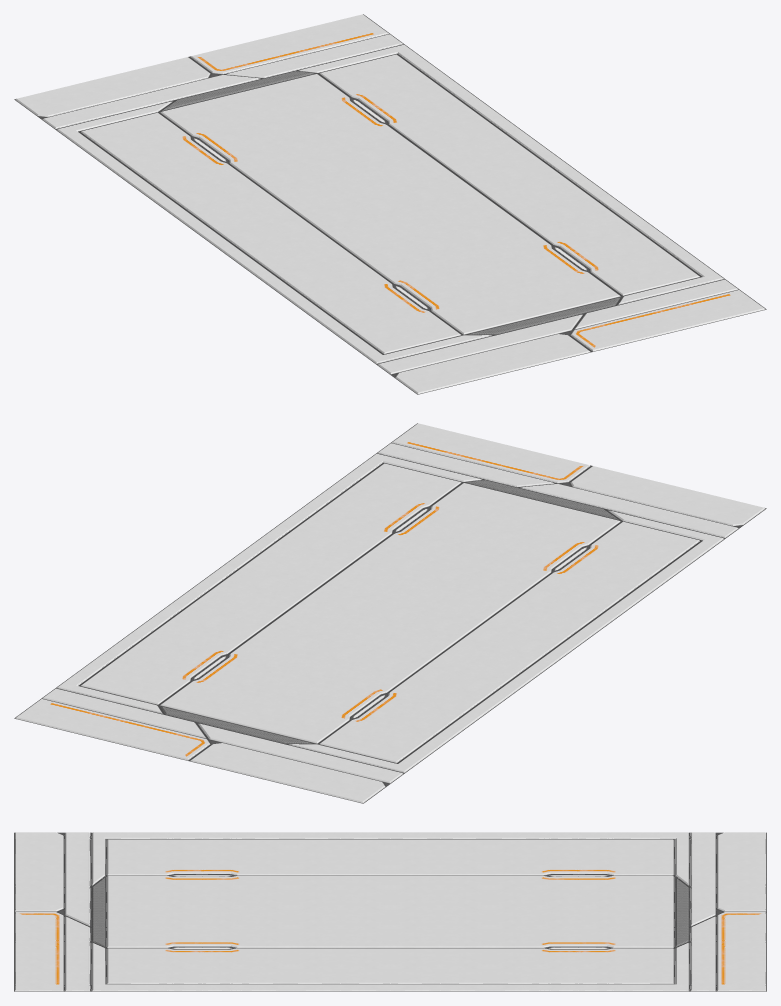
Rendered from SM_MFloor01-700x350-1.FBX.
3 views of the same model, one above another, from view 1: azimuth 30°, elevation 25°; view 2: azimuth 150°, elevation 25°; view 3: azimuth 270°, elevation 25° (orthographic). The views are drawn at different scales.
Visible parts, largest first — view 1: SM_MFloor01-700x350-1; view 2: SM_MFloor01-700x350-1; view 3: SM_MFloor01-700x350-1.
Part boxes in pixels (bbox=[...]): SM_MFloor01-700x350-1: bbox=[14, 14, 766, 394]; SM_MFloor01-700x350-1: bbox=[14, 423, 766, 803]; SM_MFloor01-700x350-1: bbox=[14, 832, 766, 991].
Size of what is drawn, in the model's own units: 350 by 700 by 1.
